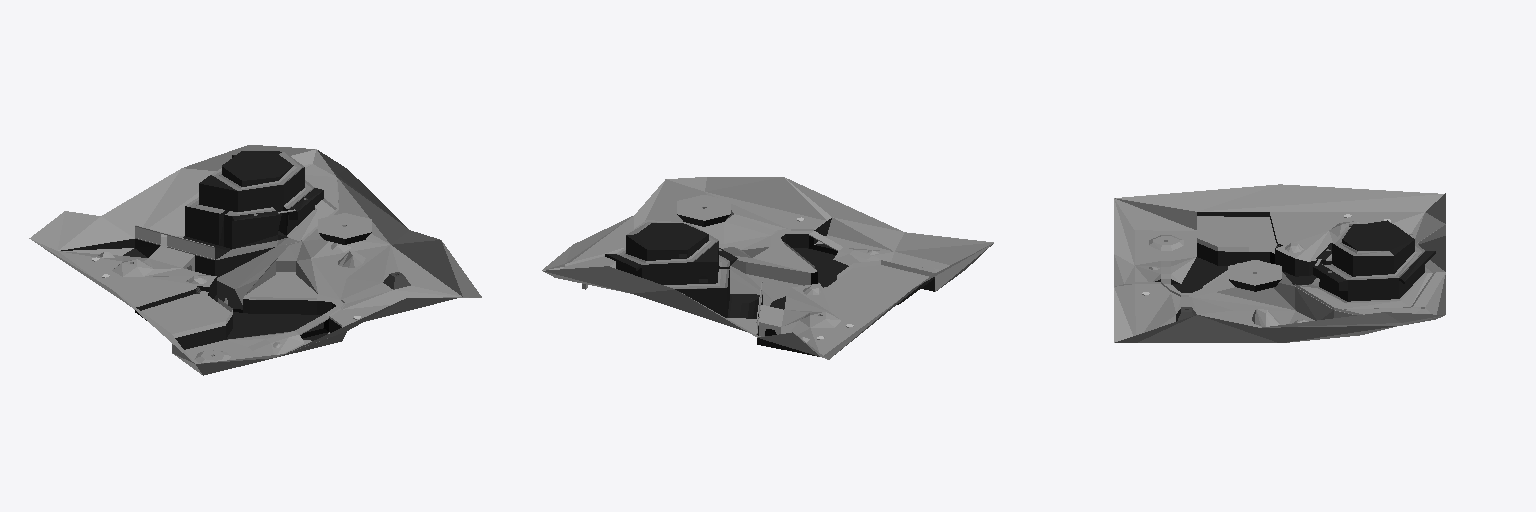
Rendered from bobomb.obj.
3 views of the same model, side by side, from view 1: azimuth 30°, elevation 25°; view 2: azimuth 150°, elevation 25°; view 3: azimuth 270°, elevation 25° (orthographic).
Parts seen in each view (by area): view 1: bobomb_battlefeild; view 2: bobomb_battlefeild; view 3: bobomb_battlefeild.
Part boxes in pixels (x1,y1,x2,y2): bobomb_battlefeild: (29,145,481,375); bobomb_battlefeild: (542,177,993,359); bobomb_battlefeild: (1114,184,1445,342).
Bounding box in the file's own units: 81.96 × 23.35 × 81.98.